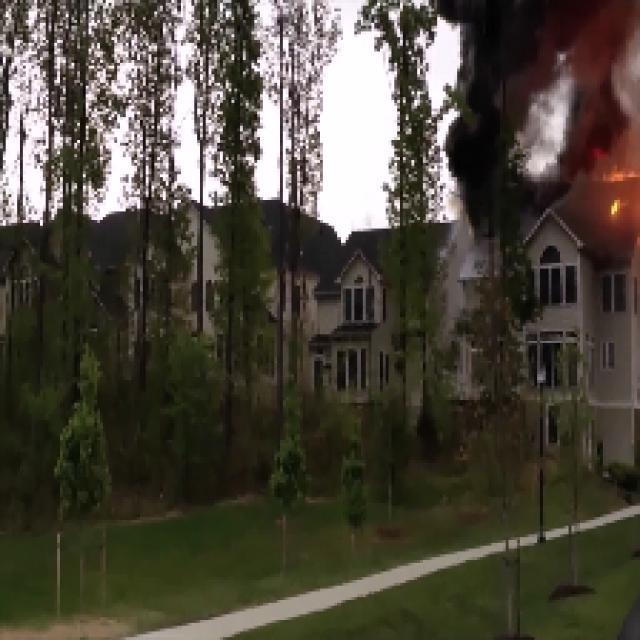Smoke: (454, 2, 536, 182)
